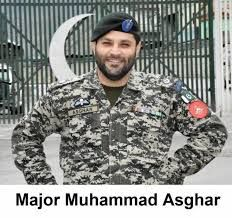uniform: (21, 61, 223, 183)
